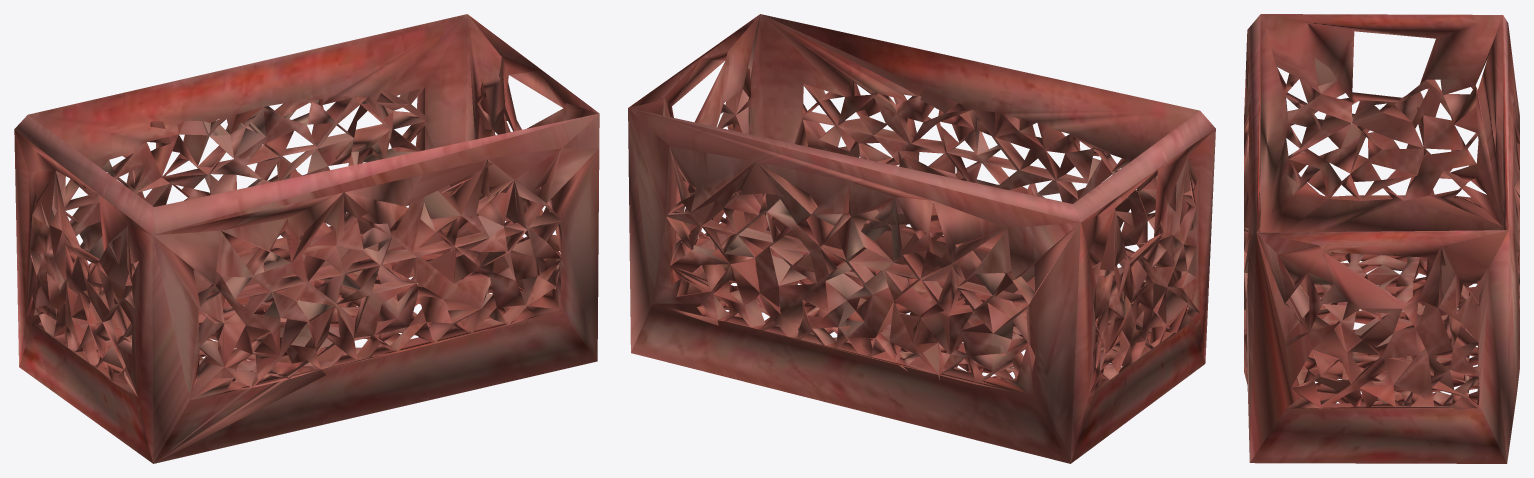
File: yardprop_plastic_crate_03.glb
3 renders of one model, left to right at view 1: azimuth 30°, elevation 25°; view 2: azimuth 150°, elevation 25°; view 3: azimuth 270°, elevation 25°, orthographic. The views are drawn at different scales.
Visible parts, largest first — view 1: plastic_crate_03; view 2: plastic_crate_03; view 3: plastic_crate_03.
Boxes of the visible parts, x1,y1,x2,y2 form: plastic_crate_03: (14, 14, 599, 463); plastic_crate_03: (628, 14, 1215, 463); plastic_crate_03: (1244, 14, 1519, 463).
Size of the model in its own units: 0.4821 by 0.2599 by 0.265.
1 material, 1 textured.
